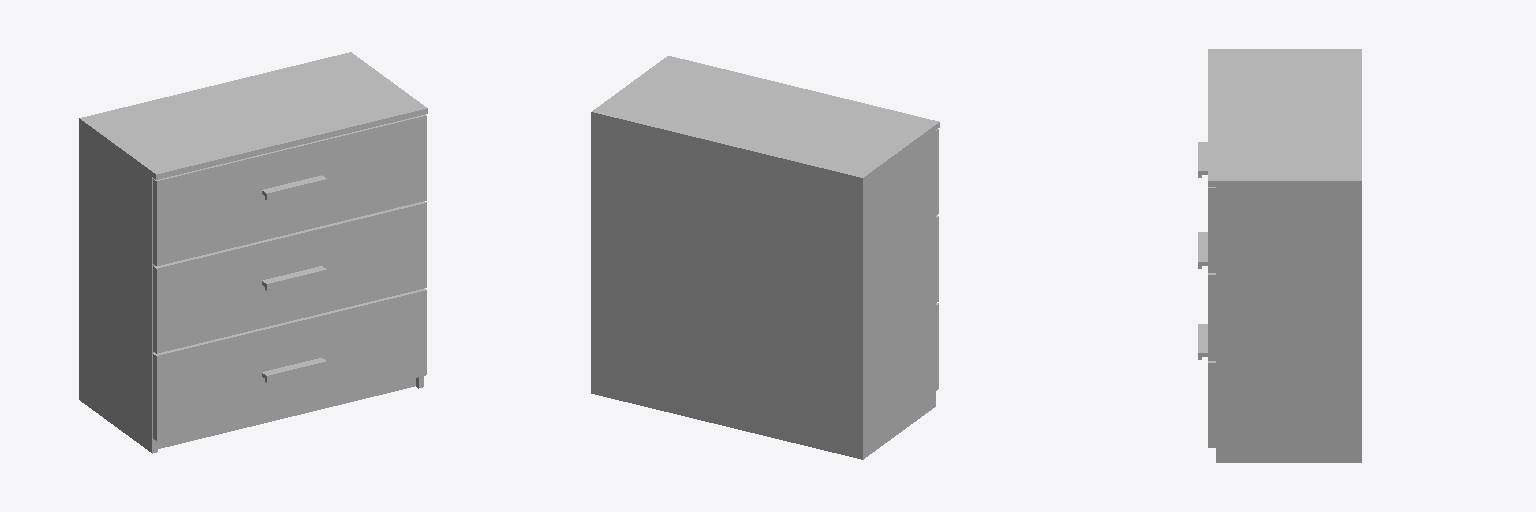
File: KABDRUPx3.obj
3 views of the same model, side by side, from view 1: azimuth 30°, elevation 25°; view 2: azimuth 150°, elevation 25°; view 3: azimuth 270°, elevation 25° (orthographic).
Visible parts, largest first — view 1: Cube.008_Cube.011, Cube.001_Cube.004, Cube.011_Cube.015; view 2: Cube.001_Cube.004, Cube.008_Cube.011; view 3: Cube.001_Cube.004, Cube.008_Cube.011, Cube.011_Cube.015.
Boxes of the visible parts, x1=… form: Cube.008_Cube.011: x1=153, y1=114, x2=426, y2=440; Cube.001_Cube.004: x1=79, y1=52, x2=427, y2=453; Cube.011_Cube.015: x1=262, y1=175, x2=326, y2=382; Cube.001_Cube.004: x1=591, y1=56, x2=939, y2=459; Cube.008_Cube.011: x1=936, y1=129, x2=938, y2=390; Cube.001_Cube.004: x1=1208, y1=49, x2=1361, y2=462; Cube.008_Cube.011: x1=1208, y1=187, x2=1215, y2=447; Cube.011_Cube.015: x1=1198, y1=142, x2=1207, y2=359.
Size of the model in its own units: 1.42 by 1.41 by 0.7401.